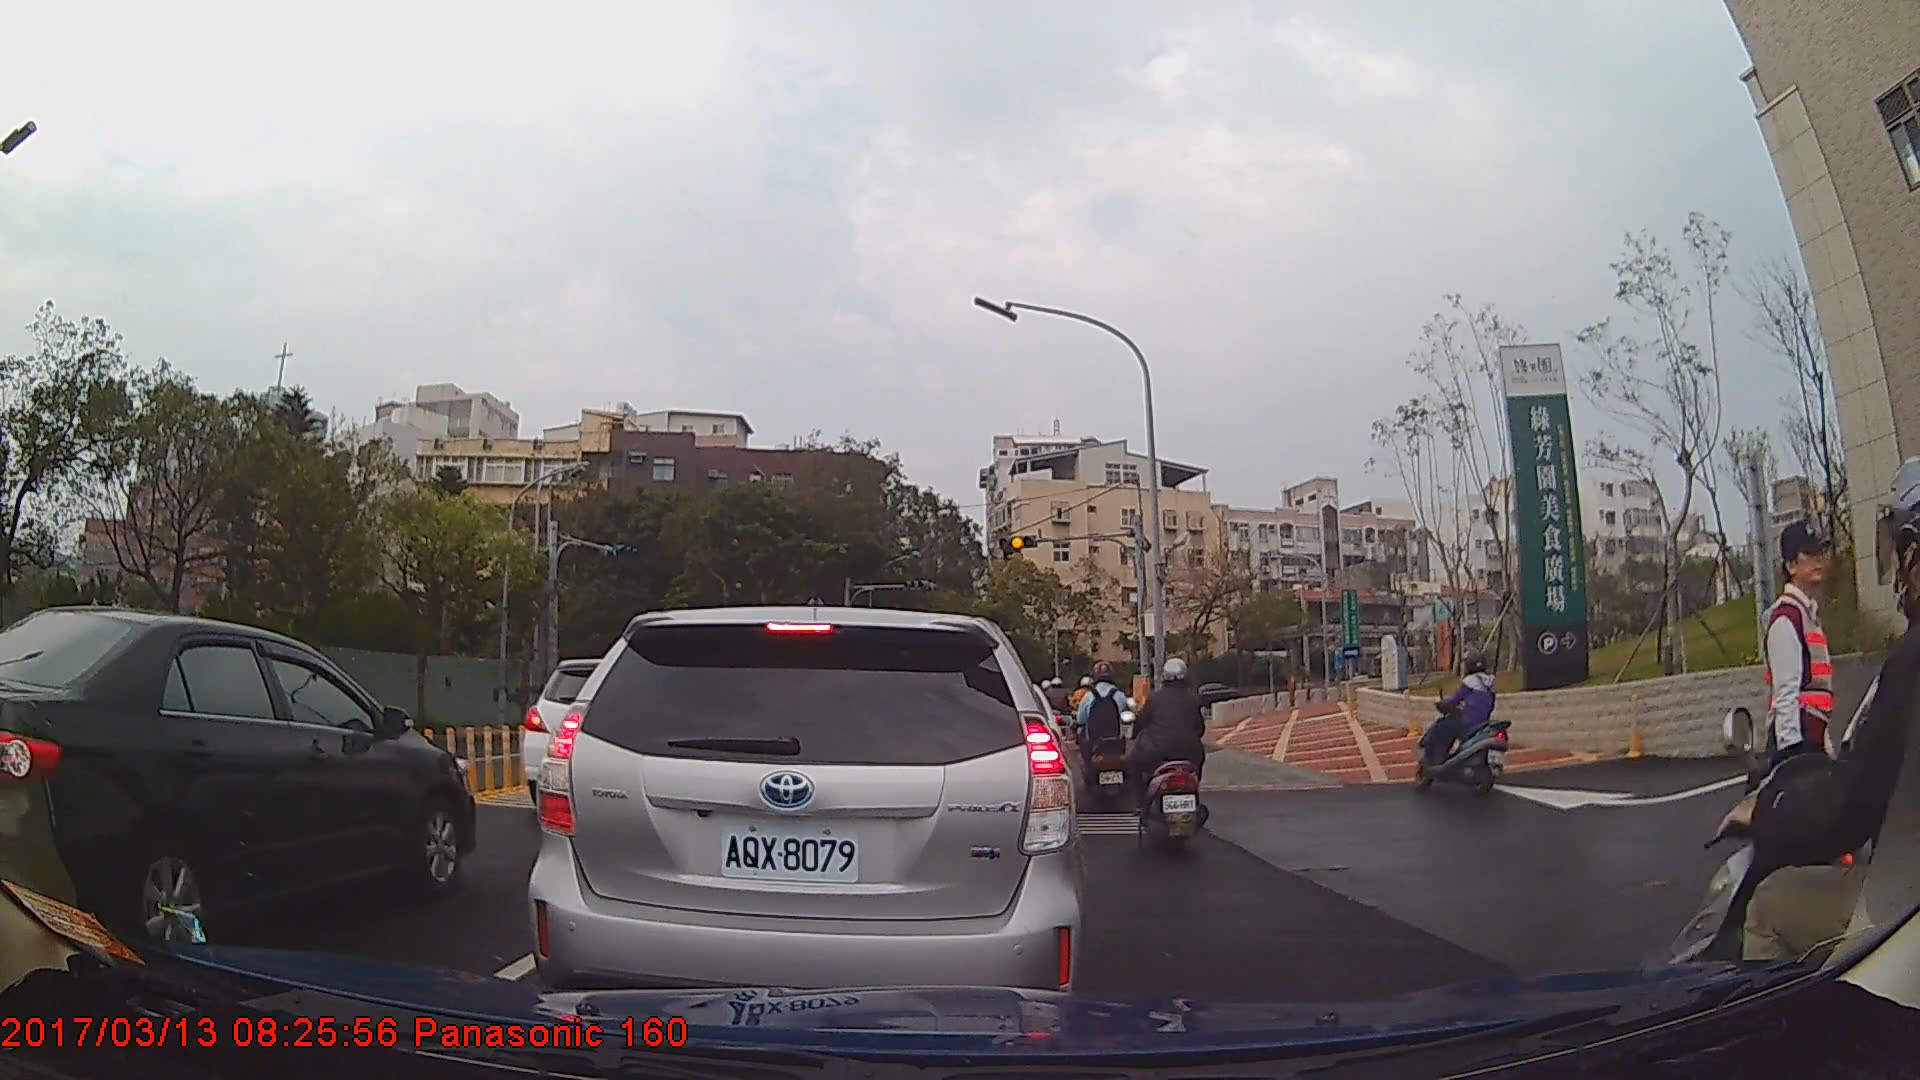pedestrian: (1760, 518, 1869, 968)
rider: (1635, 452, 1920, 1080), (1125, 656, 1207, 851), (1414, 650, 1516, 798), (1075, 657, 1135, 814)
vehicle: (527, 602, 1080, 1034), (0, 605, 477, 956)
